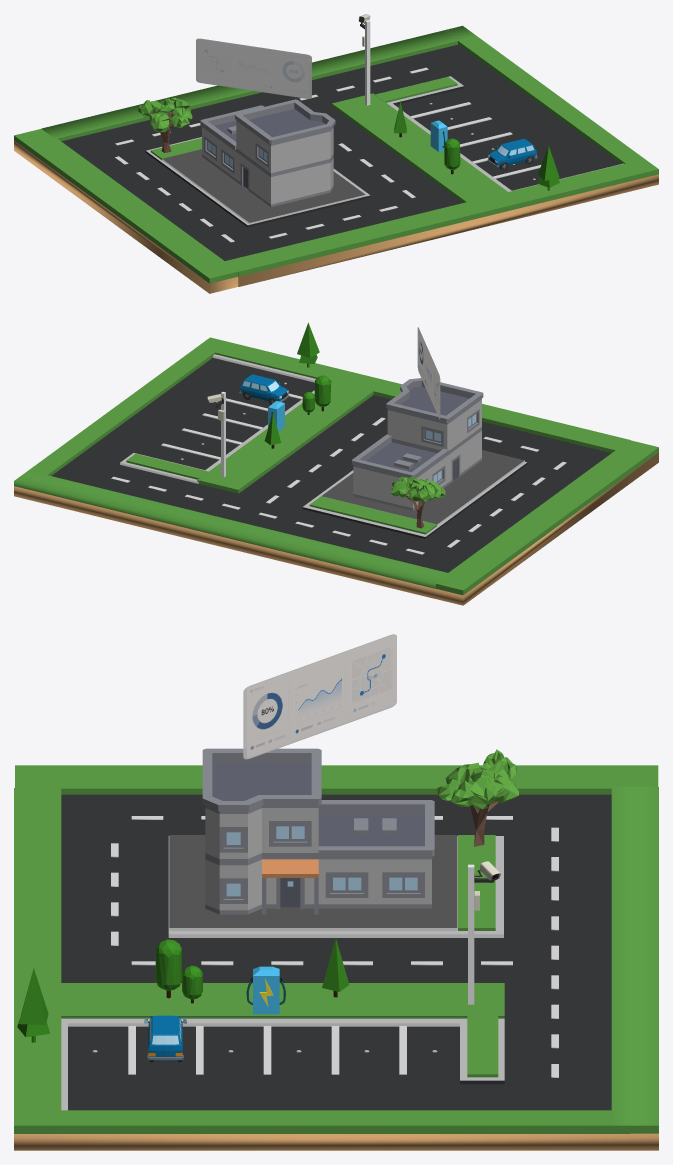
File: model-onehouse.glb
The picture shows the model from 3 angles, top to bottom: view 1: azimuth 30°, elevation 25°; view 2: azimuth 150°, elevation 25°; view 3: azimuth 270°, elevation 25°; orthographic projection. The views are drawn at different scales.
Parts seen in each view (by area): view 1: parking, small_buildingE, PappSensor selectable, PappInsights, tree, trees, PappCamera selectable, Van, PappCamera, cahrger; view 2: parking, small_buildingE, PappSensor selectable, trees, tree, PappInsights, PappCamera selectable, Van, roadlines4, PappCamera; view 3: parking, small_buildingE, PappSensor selectable, PappInsights, trees, tree, PappCamera selectable, Van, cahrger, PappCamera, roadlines4, roadlines1.
Boxes of the visible parts, bbox=[...] form: parking: bbox=[14, 25, 658, 293]; small_buildingE: bbox=[200, 99, 335, 206]; PappSensor selectable: bbox=[395, 75, 620, 190]; PappInsights: bbox=[196, 38, 311, 98]; tree: bbox=[138, 97, 192, 152]; trees: bbox=[394, 101, 559, 190]; PappCamera selectable: bbox=[332, 93, 397, 122]; Van: bbox=[487, 138, 537, 170]; PappCamera: bbox=[360, 20, 370, 105]; cahrger: bbox=[430, 120, 447, 151]; parking: bbox=[14, 337, 658, 605]; small_buildingE: bbox=[352, 378, 483, 510]; PappSensor selectable: bbox=[89, 358, 314, 469]; trees: bbox=[264, 322, 330, 448]; tree: bbox=[390, 476, 445, 528]; PappInsights: bbox=[417, 327, 440, 419]; PappCamera selectable: bbox=[198, 460, 264, 489]; Van: bbox=[239, 374, 289, 404]; roadlines4: bbox=[111, 476, 424, 554]; PappCamera: bbox=[215, 392, 225, 477]; parking: bbox=[14, 765, 658, 1150]; small_buildingE: bbox=[202, 748, 434, 914]; PappSensor selectable: bbox=[68, 1026, 475, 1110]; PappInsights: bbox=[243, 634, 396, 759]; trees: bbox=[17, 938, 349, 1042]; tree: bbox=[437, 749, 518, 846]; PappCamera selectable: bbox=[416, 983, 504, 1015]; Van: bbox=[144, 1015, 186, 1062]; cahrger: bbox=[246, 966, 285, 1014]; PappCamera: bbox=[468, 864, 494, 1004]; roadlines4: bbox=[551, 827, 558, 1077]; roadlines1: bbox=[131, 961, 512, 965].
Bounding box in the file's own units: 5.46 × 1.7 × 4.13.
28 materials, 2 textured.
